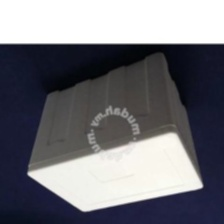foam_box: (21, 49, 206, 215)
